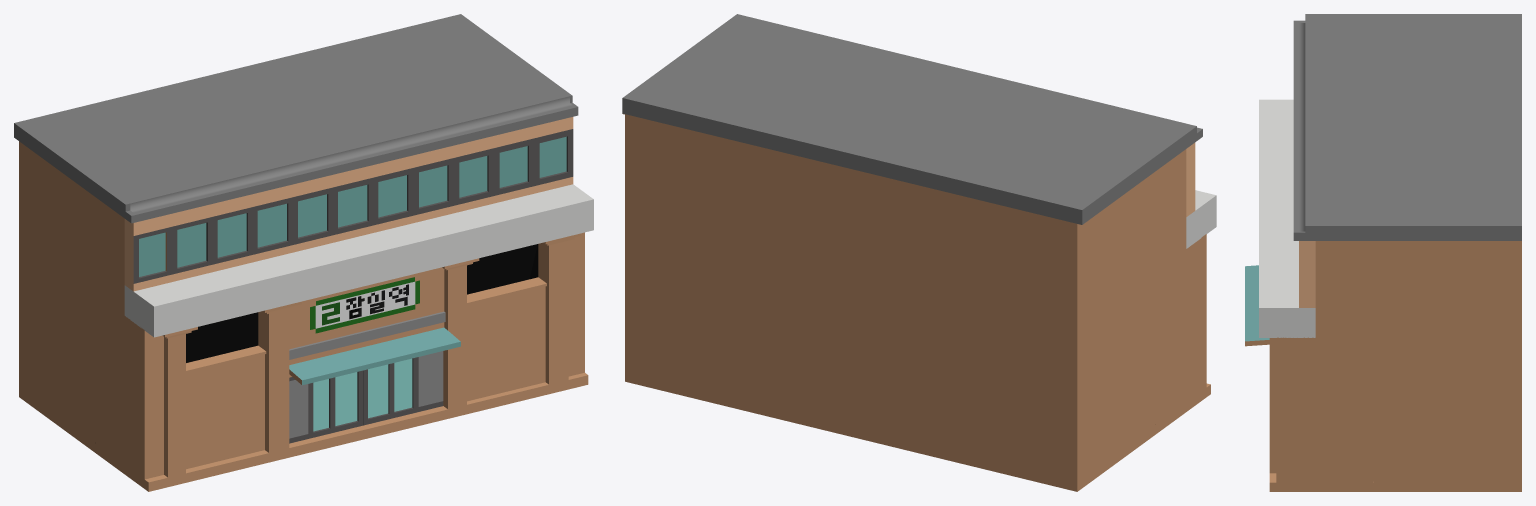
Rendered from 잠실역.fbx.
The picture shows the model from 3 angles, left to right: view 1: azimuth 30°, elevation 25°; view 2: azimuth 150°, elevation 25°; view 3: azimuth 270°, elevation 25°; orthographic projection. The views are drawn at different scales.
Parts seen in each view (by area): view 1: Box001; view 2: Box001; view 3: Box001.
Part boxes in pixels (x1,y1,x2,y2): Box001: [14, 14, 593, 491]; Box001: [622, 14, 1216, 491]; Box001: [1245, 14, 1521, 491].
Size of the model in its own units: 50.81 by 29.89 by 28.05.
Materials: 1 (1 with a texture image).
